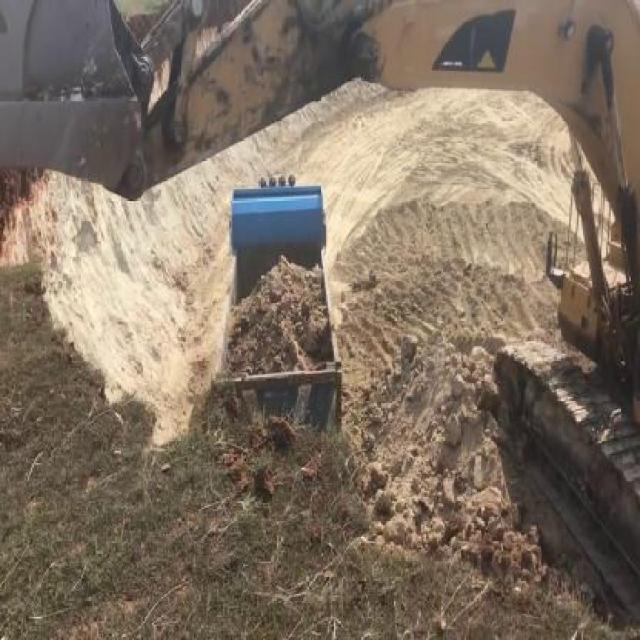dump_truck: (211, 188, 344, 444)
excavator: (0, 0, 638, 606)
